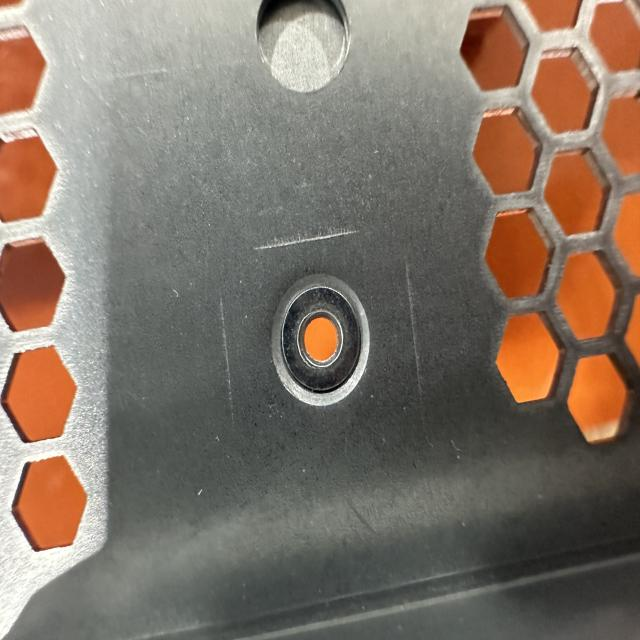Missing screw: (260, 262, 382, 420)
